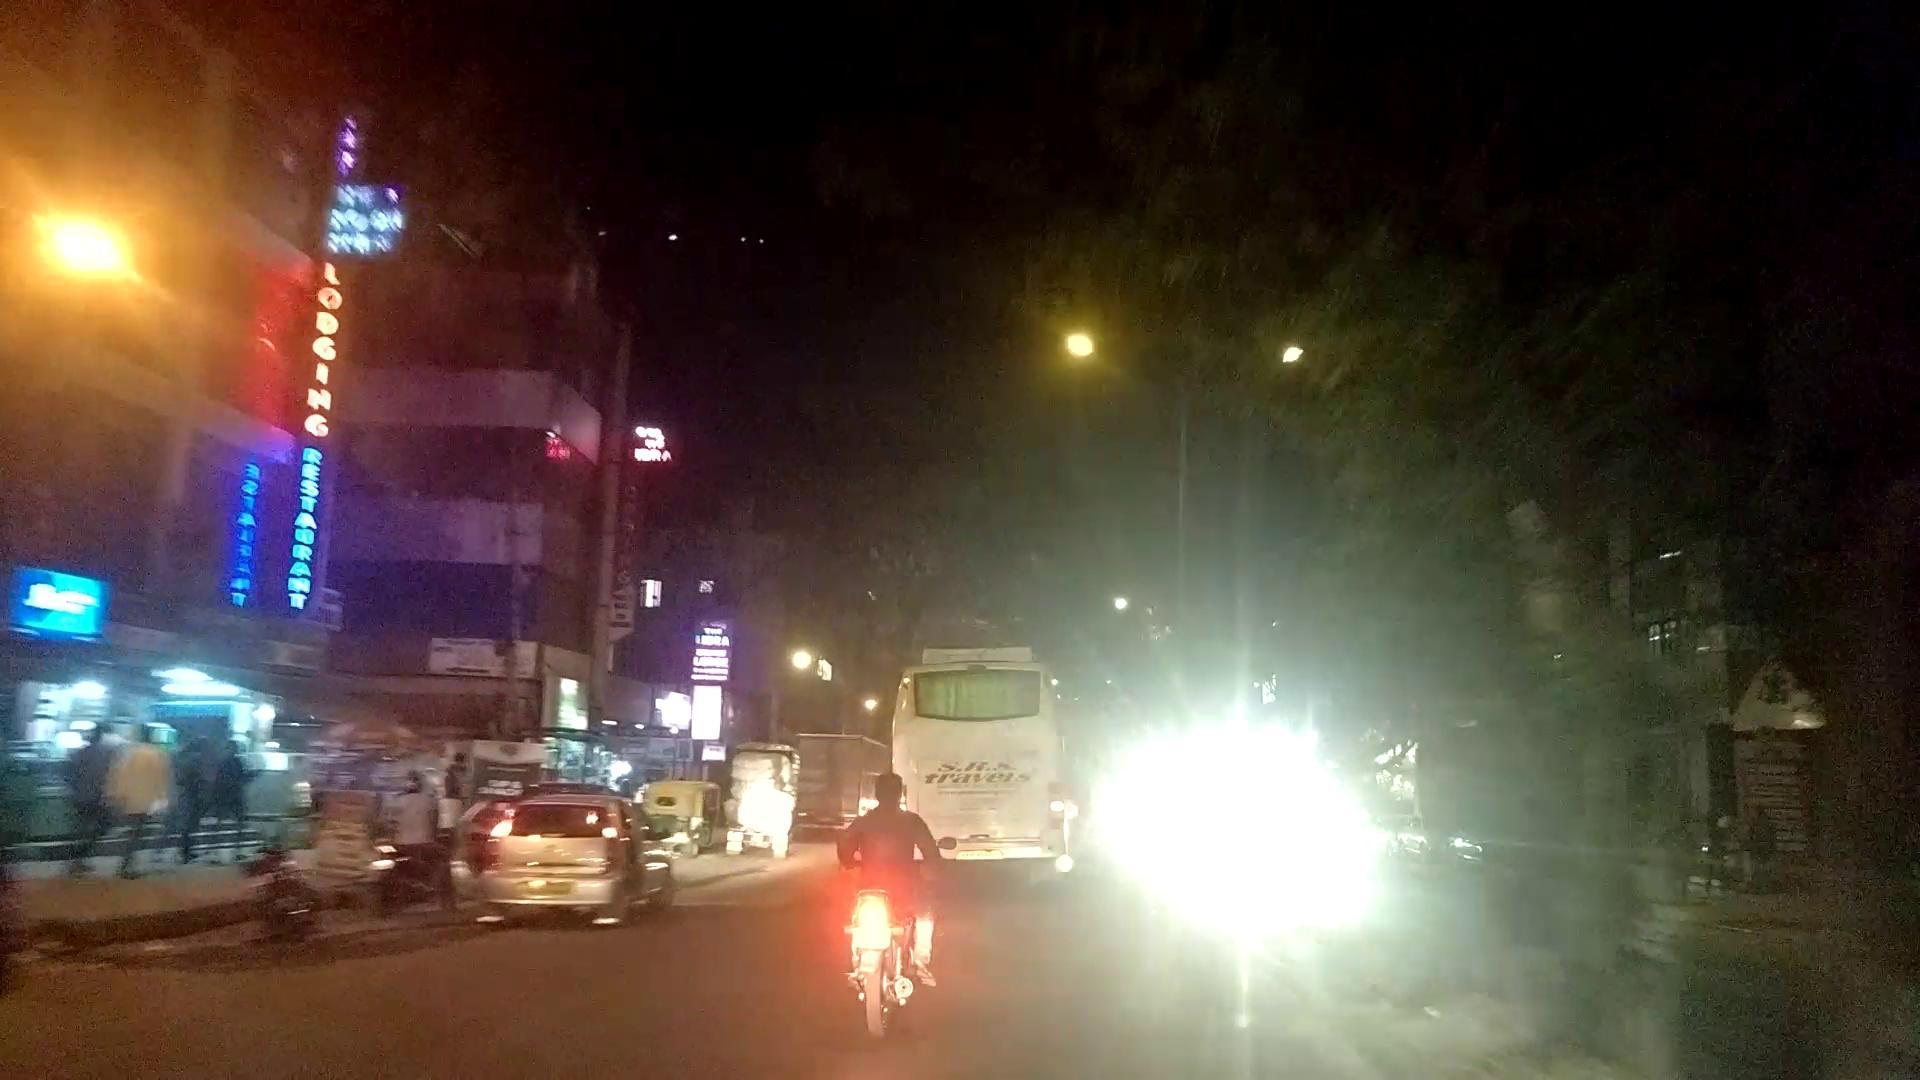on: (1000, 202, 1399, 498), (0, 82, 248, 475)
